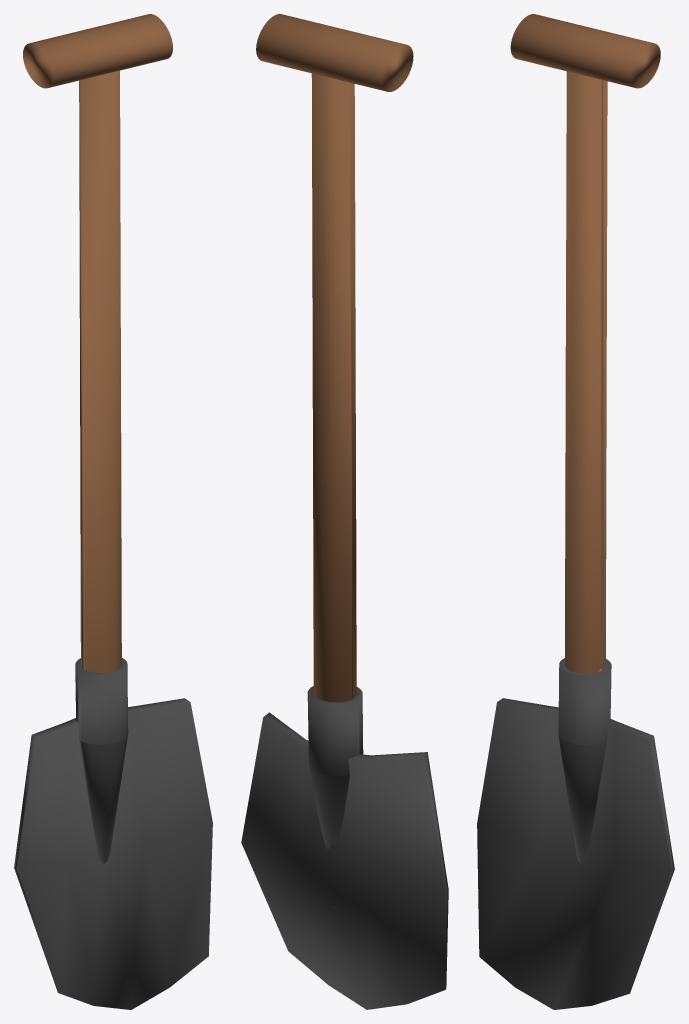
The model's file is shovel.fbx.
3 views of the same model, side by side, from view 1: azimuth 30°, elevation 25°; view 2: azimuth 150°, elevation 25°; view 3: azimuth 330°, elevation 25° (orthographic). The views are drawn at different scales.
Visible parts, largest first — view 1: Cylinder.001; view 2: Cylinder.001; view 3: Cylinder.001.
Part boxes in pixels (x1,y1,x2,y2): Cylinder.001: [14, 14, 212, 1009]; Cylinder.001: [241, 14, 448, 1009]; Cylinder.001: [477, 14, 674, 1009].
Size of the model in its own units: 109 by 509 by 47.31.
